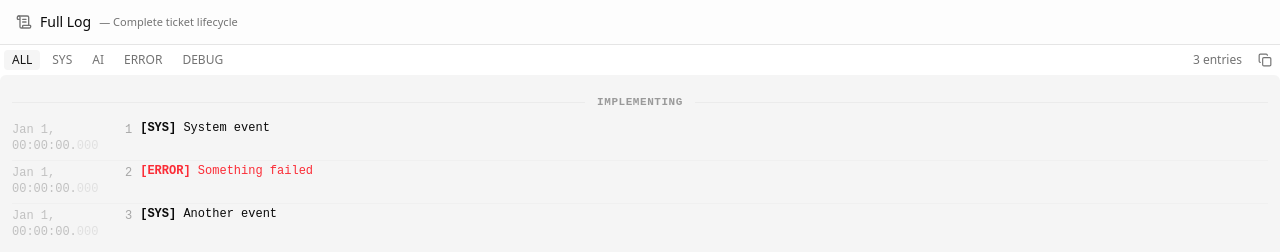
Test: FullLogView › filters logs when a tab is selected
This screenshot has width=1280, height=252.
Click the button "ERROR" at [143, 60], box [116,50,170,70]
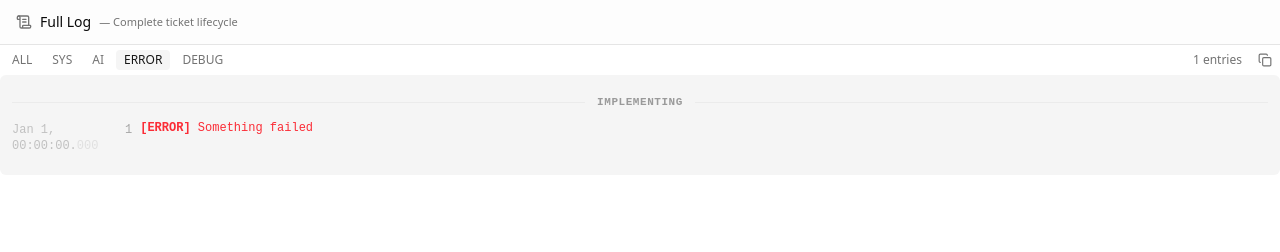
Check: the text "1 entries" is shown, box [1193,52,1242,68]
